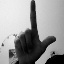l: (13, 1, 58, 59)
